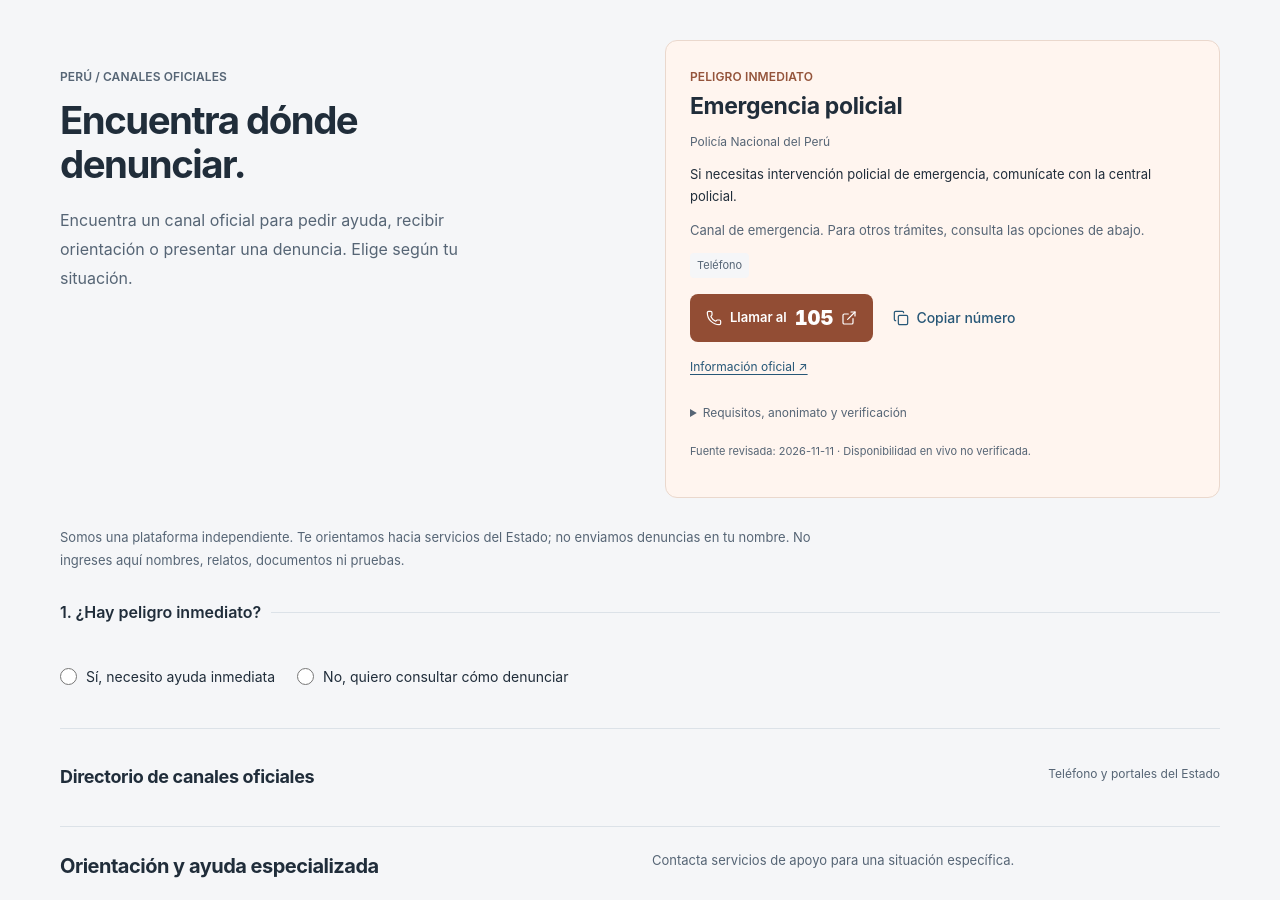
official reporting resources › starts with danger guidance and only offers category selection after the non-emergency answer
This screenshot has width=1280, height=900.
Check: the field labelled "2. ¿Qué situación quieres consultar?" is not shown
Click the radio button labelled "Sí, necesito ayuda inmediata".
click(68, 676)  # box [60,668,77,685]
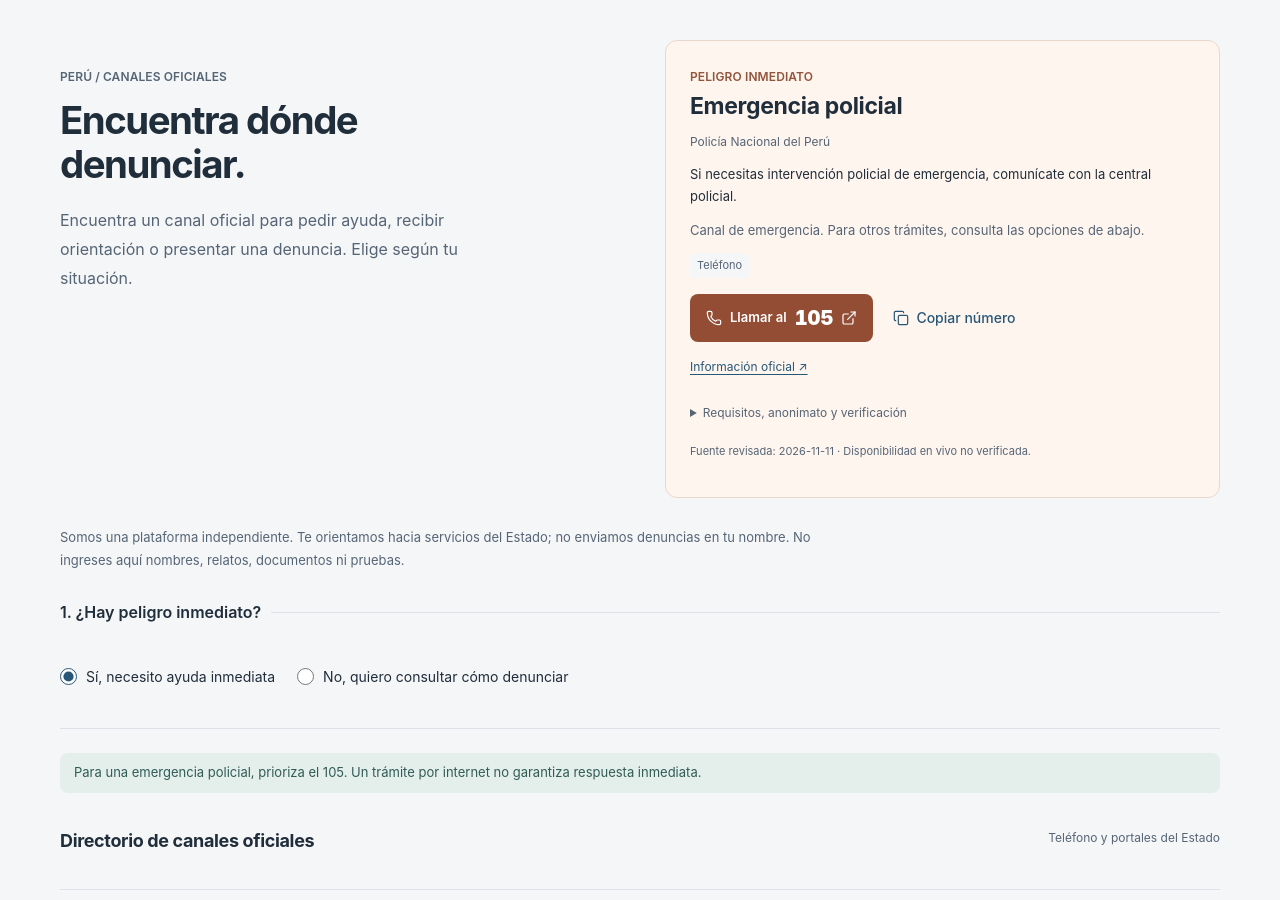
Check: the text "prioriza el 105" is shown, box [74,764,701,780]
Click the radio button labelled "No, quiero consultar cómo denunciar".
click(306, 676)  # box [297,668,314,685]
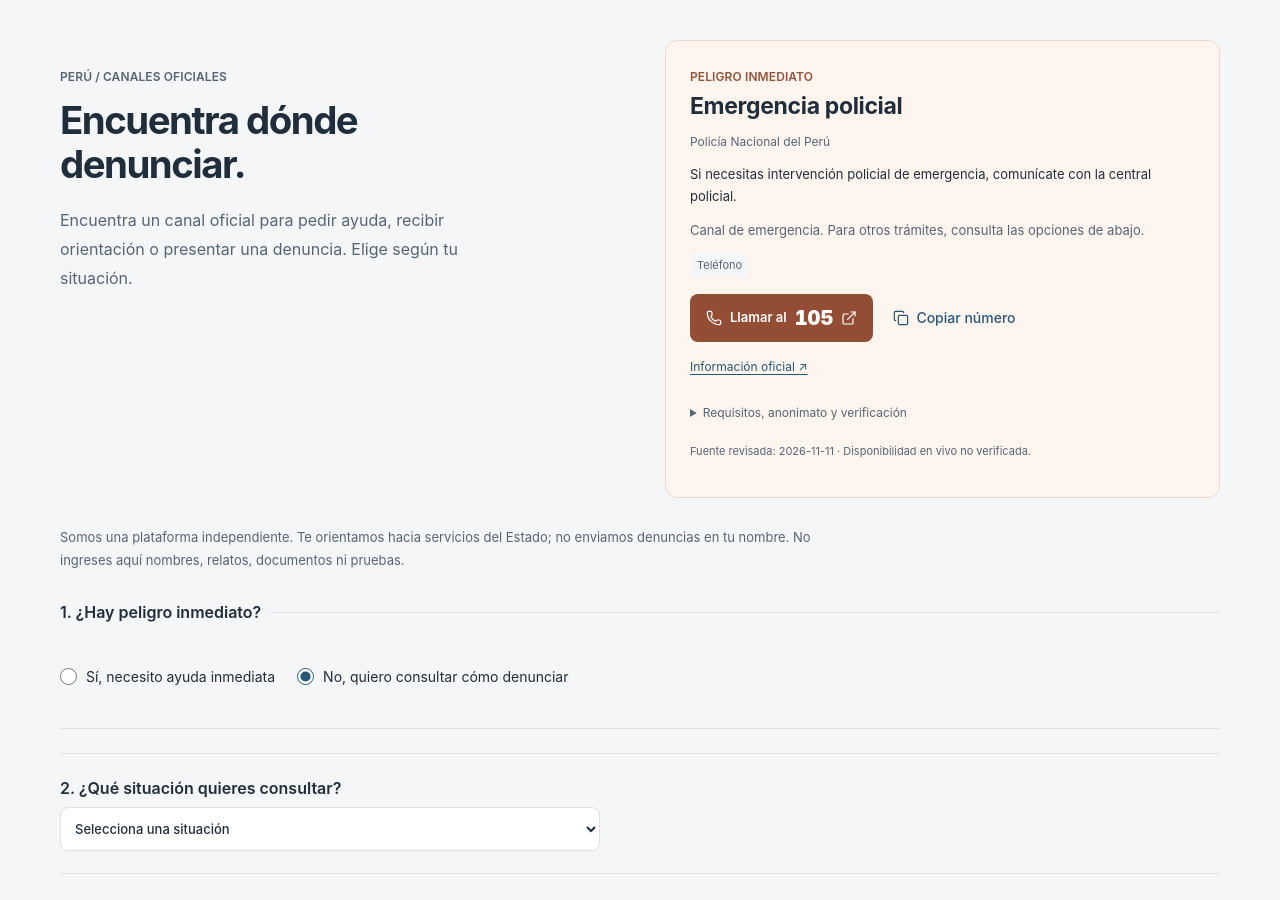
Check: the dropdown labelled "2. ¿Qué situación quieres consultar?" is shown, box [60,807,600,851]
